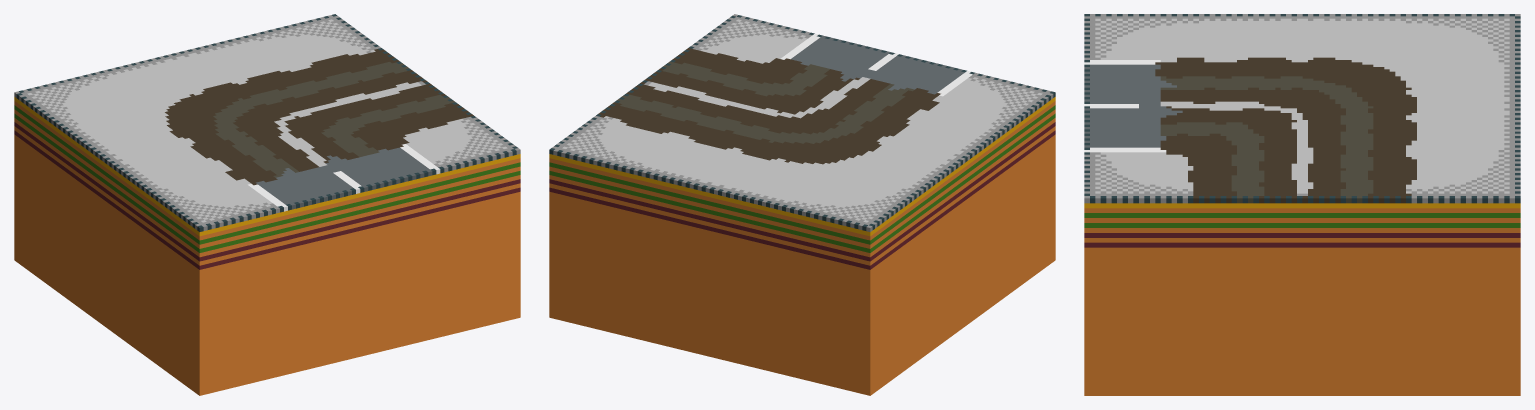
The model's file is snow_road_transition_2_tile.obj.
The picture shows the model from 3 angles, left to right: view 1: azimuth 30°, elevation 25°; view 2: azimuth 150°, elevation 25°; view 3: azimuth 270°, elevation 25°; orthographic projection. The views are drawn at different scales.
Size of the model in its own units: 8 by 4 by 8.
1 material, 1 textured.
